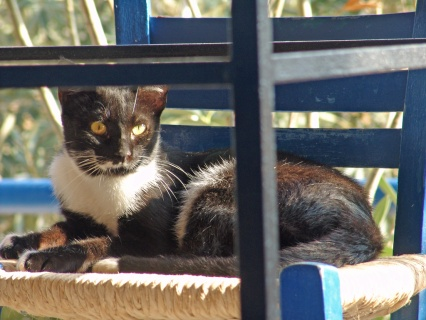Cat: (0, 54, 387, 275)
